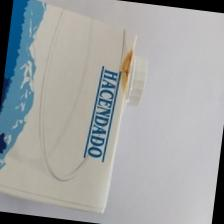Kertas: (0, 0, 147, 212)
